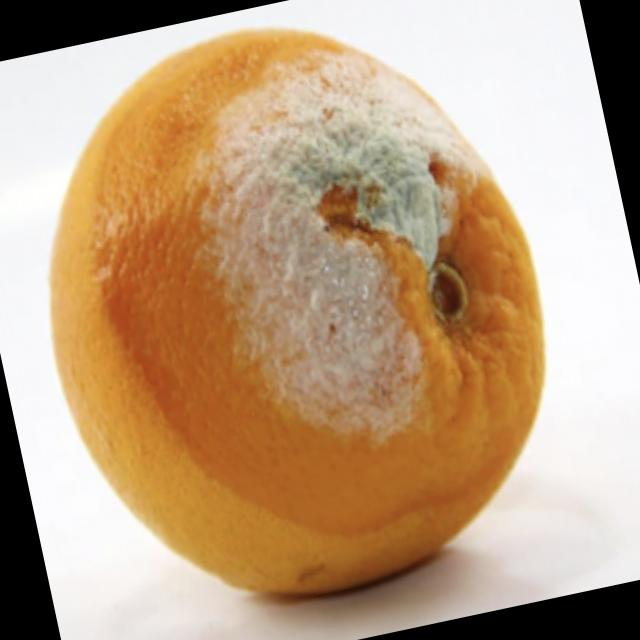rotten-orange: (0, 0, 591, 637)
